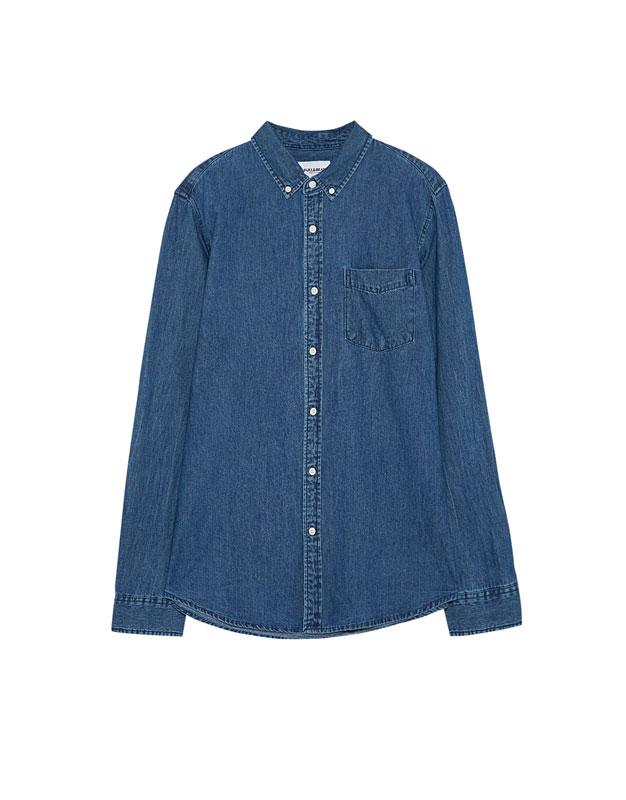teeshirt: (116, 113, 530, 676)
